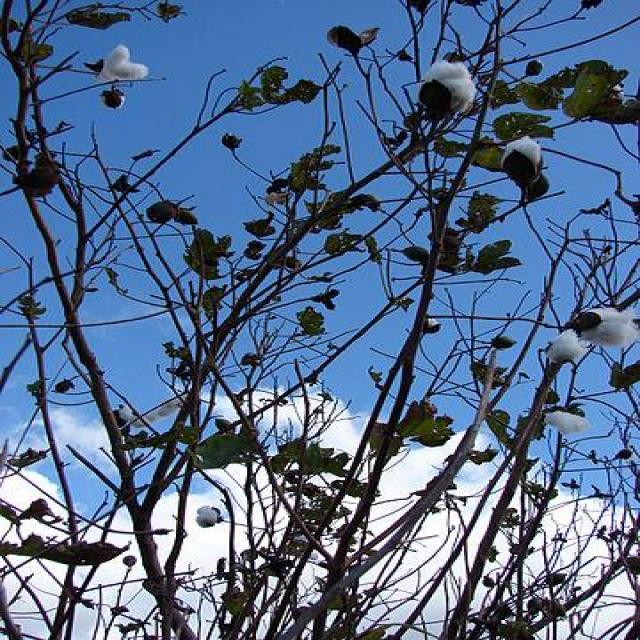Late_blight: (549, 303, 640, 367), (416, 55, 479, 112), (92, 44, 158, 82), (542, 412, 588, 431)
